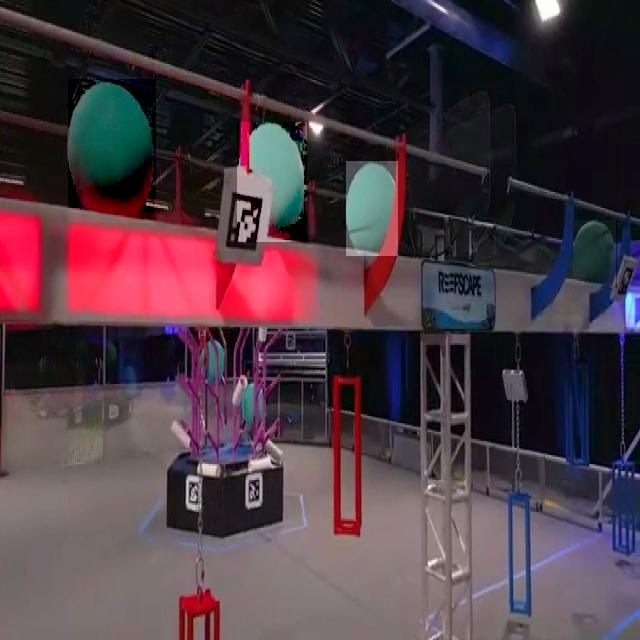Algae: (68, 79, 156, 223), (237, 122, 307, 242), (346, 161, 398, 256), (574, 220, 618, 288)
